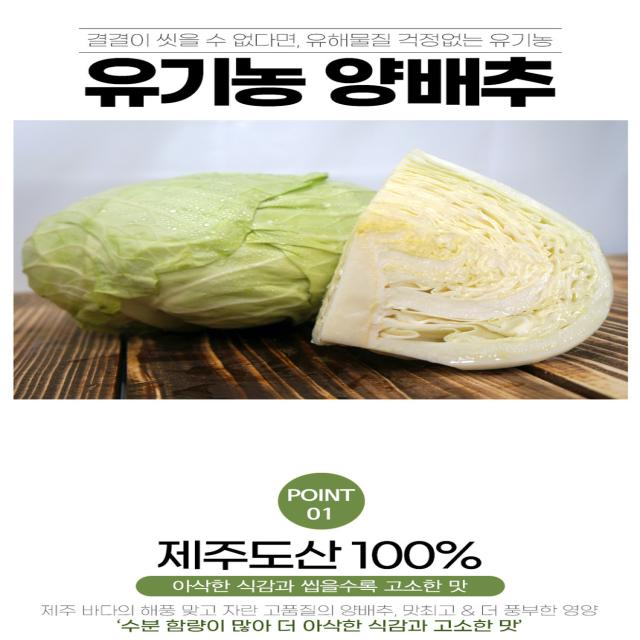cabbage: (20, 166, 381, 334)
haft-cabbage: (315, 145, 619, 374)
